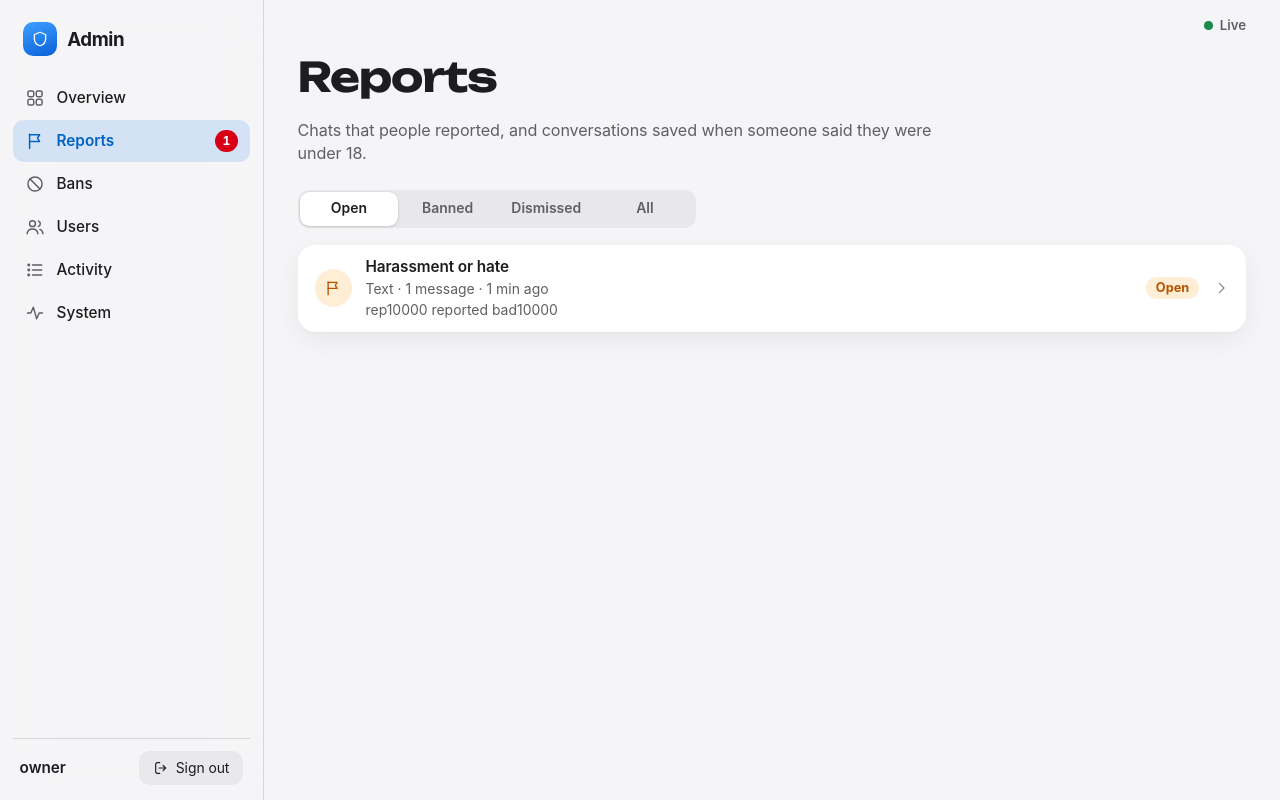
reports › shows what people wrote as plain text, never as markup
Click the button "Harassment". click: click(333, 288)
box: [298,244,1246,332]
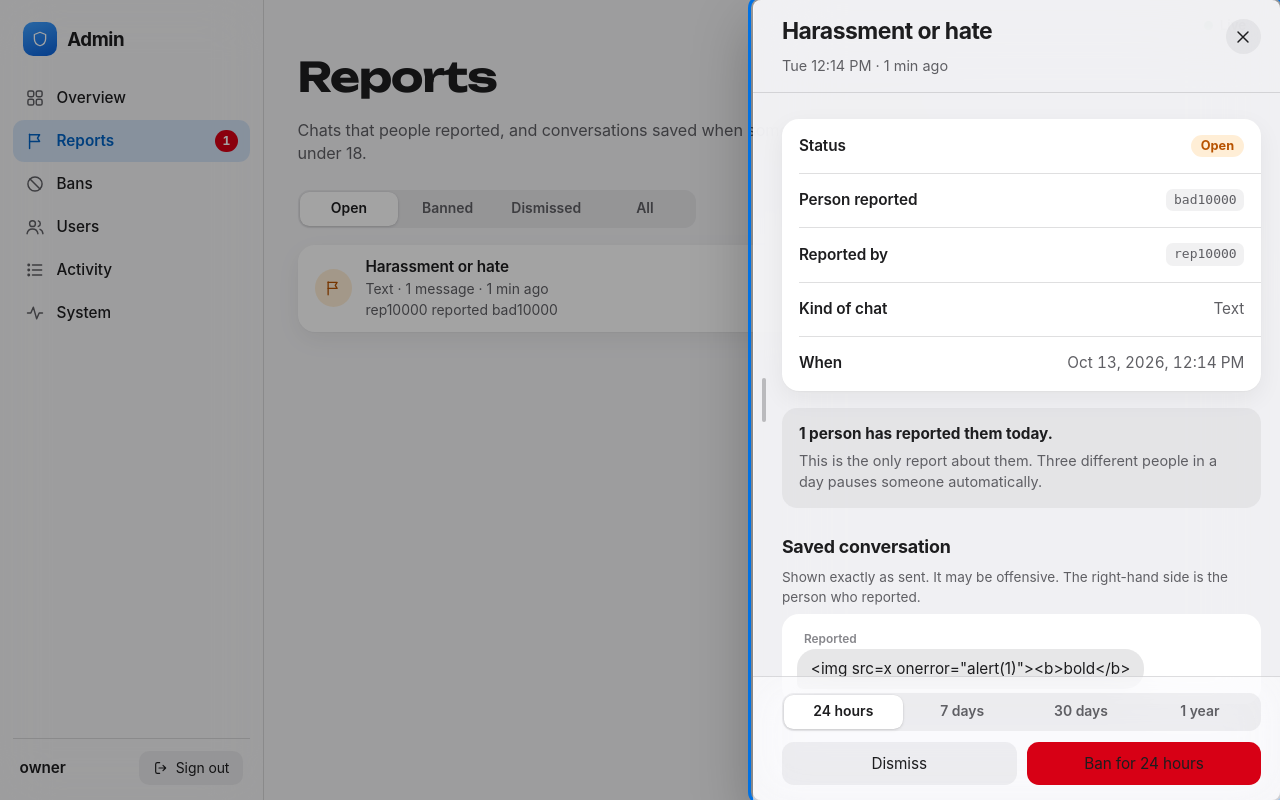
Expected: the text "<img src=x onerror=\"alert(1)\"><b>bold</b>" is shown, [797,649,1144,688]
